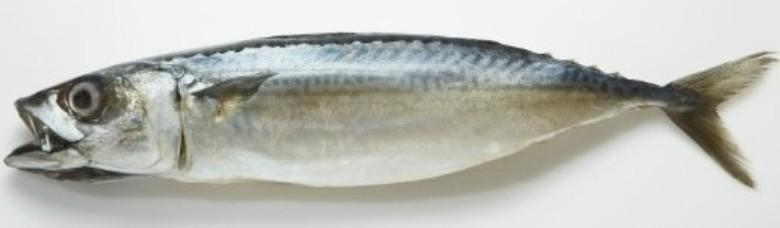fish: (5, 32, 775, 186)
